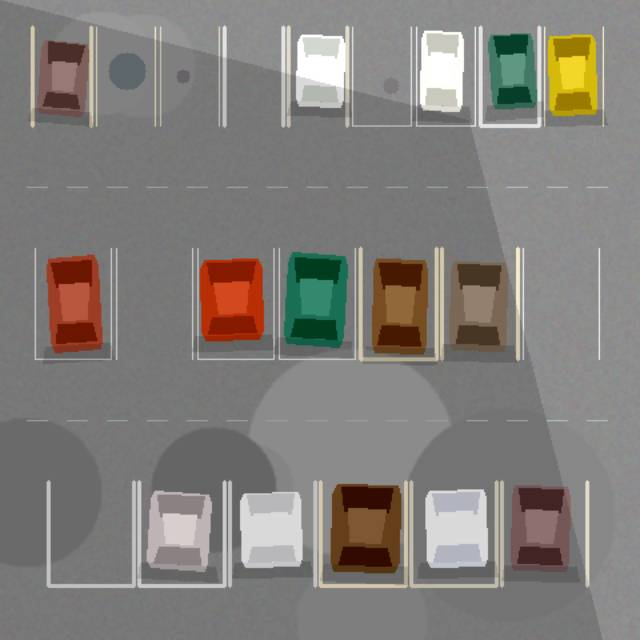space-empty: (48, 481, 133, 585), (116, 248, 192, 359), (523, 248, 599, 359), (96, 27, 155, 125), (160, 27, 219, 125), (224, 27, 283, 125), (352, 27, 411, 125)
space-occupied: (229, 481, 315, 585), (501, 481, 587, 585), (139, 481, 224, 585), (320, 481, 405, 585), (411, 481, 496, 585), (35, 248, 111, 359), (197, 248, 273, 359), (279, 248, 355, 359), (360, 248, 436, 359), (441, 248, 517, 359), (32, 27, 91, 125), (288, 27, 347, 125), (416, 27, 475, 125), (480, 27, 539, 125), (544, 27, 603, 125)
